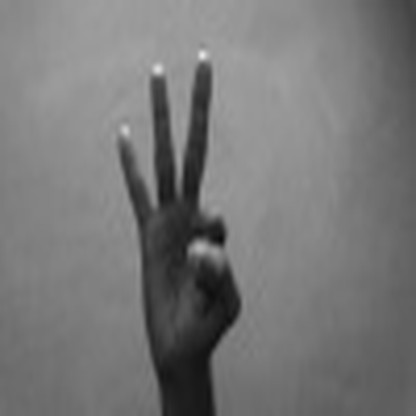f: (113, 44, 243, 375)
